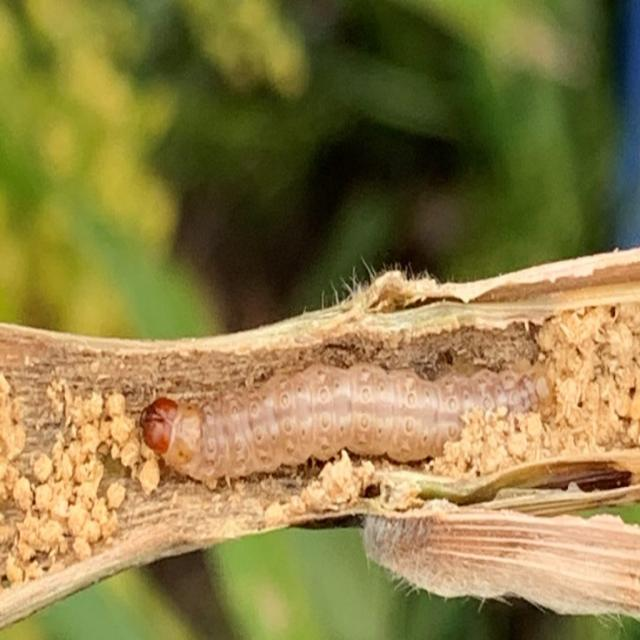cornborer-Larva-: (122, 365, 556, 485)
